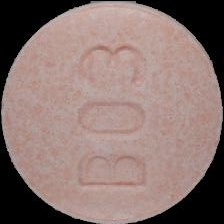60760-065: (0, 0, 224, 224)
